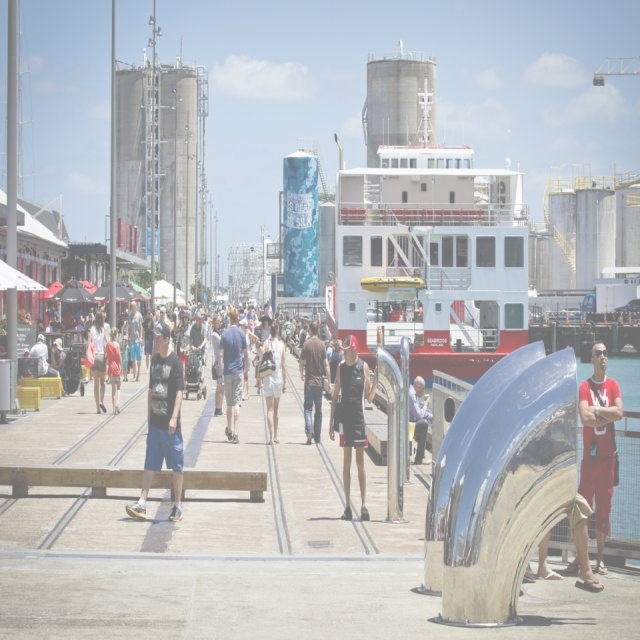pessoa: (564, 340, 625, 576), (122, 317, 186, 525), (326, 332, 379, 524), (520, 488, 608, 594), (216, 305, 250, 445), (298, 318, 334, 446), (254, 319, 288, 446), (83, 308, 111, 416), (27, 331, 68, 399), (214, 297, 310, 325), (408, 374, 433, 461), (237, 324, 260, 409), (102, 325, 122, 417), (211, 313, 227, 418), (126, 299, 145, 382), (188, 311, 208, 382), (175, 310, 192, 391), (154, 301, 184, 340), (276, 324, 310, 356), (142, 305, 156, 374), (72, 304, 96, 340), (328, 338, 344, 384), (50, 337, 67, 377), (183, 298, 216, 317), (99, 305, 112, 345), (50, 310, 64, 347), (121, 334, 130, 383), (22, 346, 34, 378), (298, 323, 310, 349), (202, 316, 213, 344), (259, 324, 271, 347), (50, 302, 62, 322), (20, 308, 32, 325), (326, 337, 336, 352), (36, 321, 44, 339)
